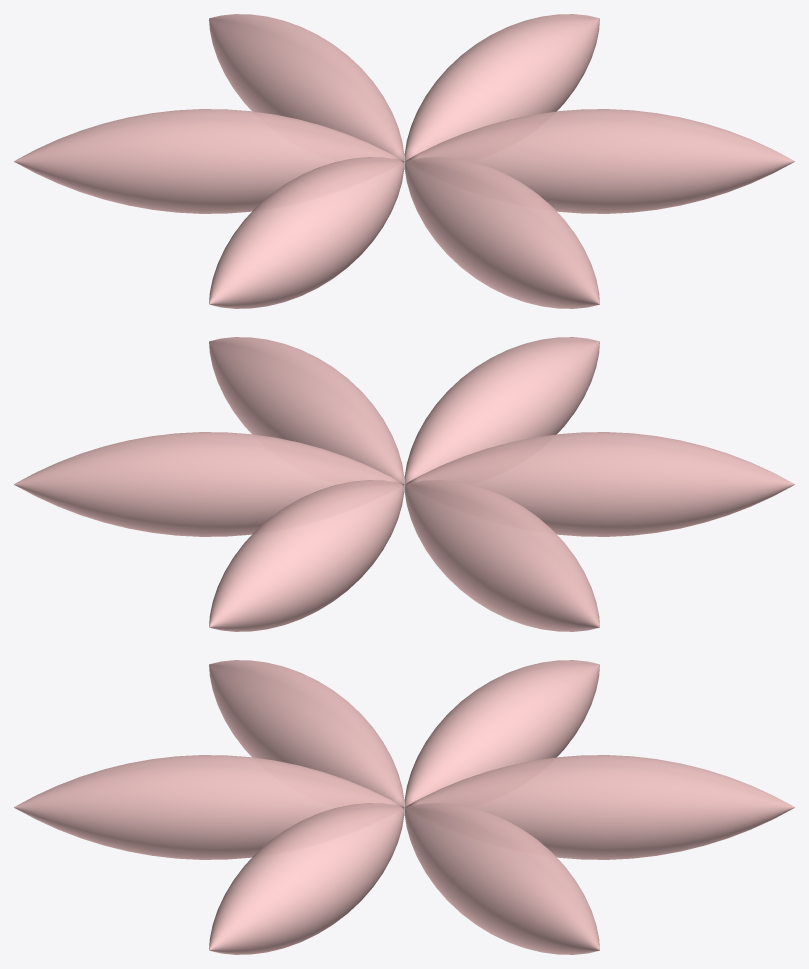
The model's file is flowerOfLife.glb.
The picture shows the model from 3 angles, top to bottom: view 1: azimuth 30°, elevation 25°; view 2: azimuth 150°, elevation 25°; view 3: azimuth 270°, elevation 25°; orthographic projection.
Parts seen in each view (by area): view 1: root; view 2: root; view 3: root.
Part boxes in pixels (x1=…): root: x1=14, y1=14, x2=794, y2=308; root: x1=14, y1=337, x2=794, y2=631; root: x1=14, y1=660, x2=794, y2=954.
Bounding box in the file's own units: 1.73 × 0.2684 × 2.
